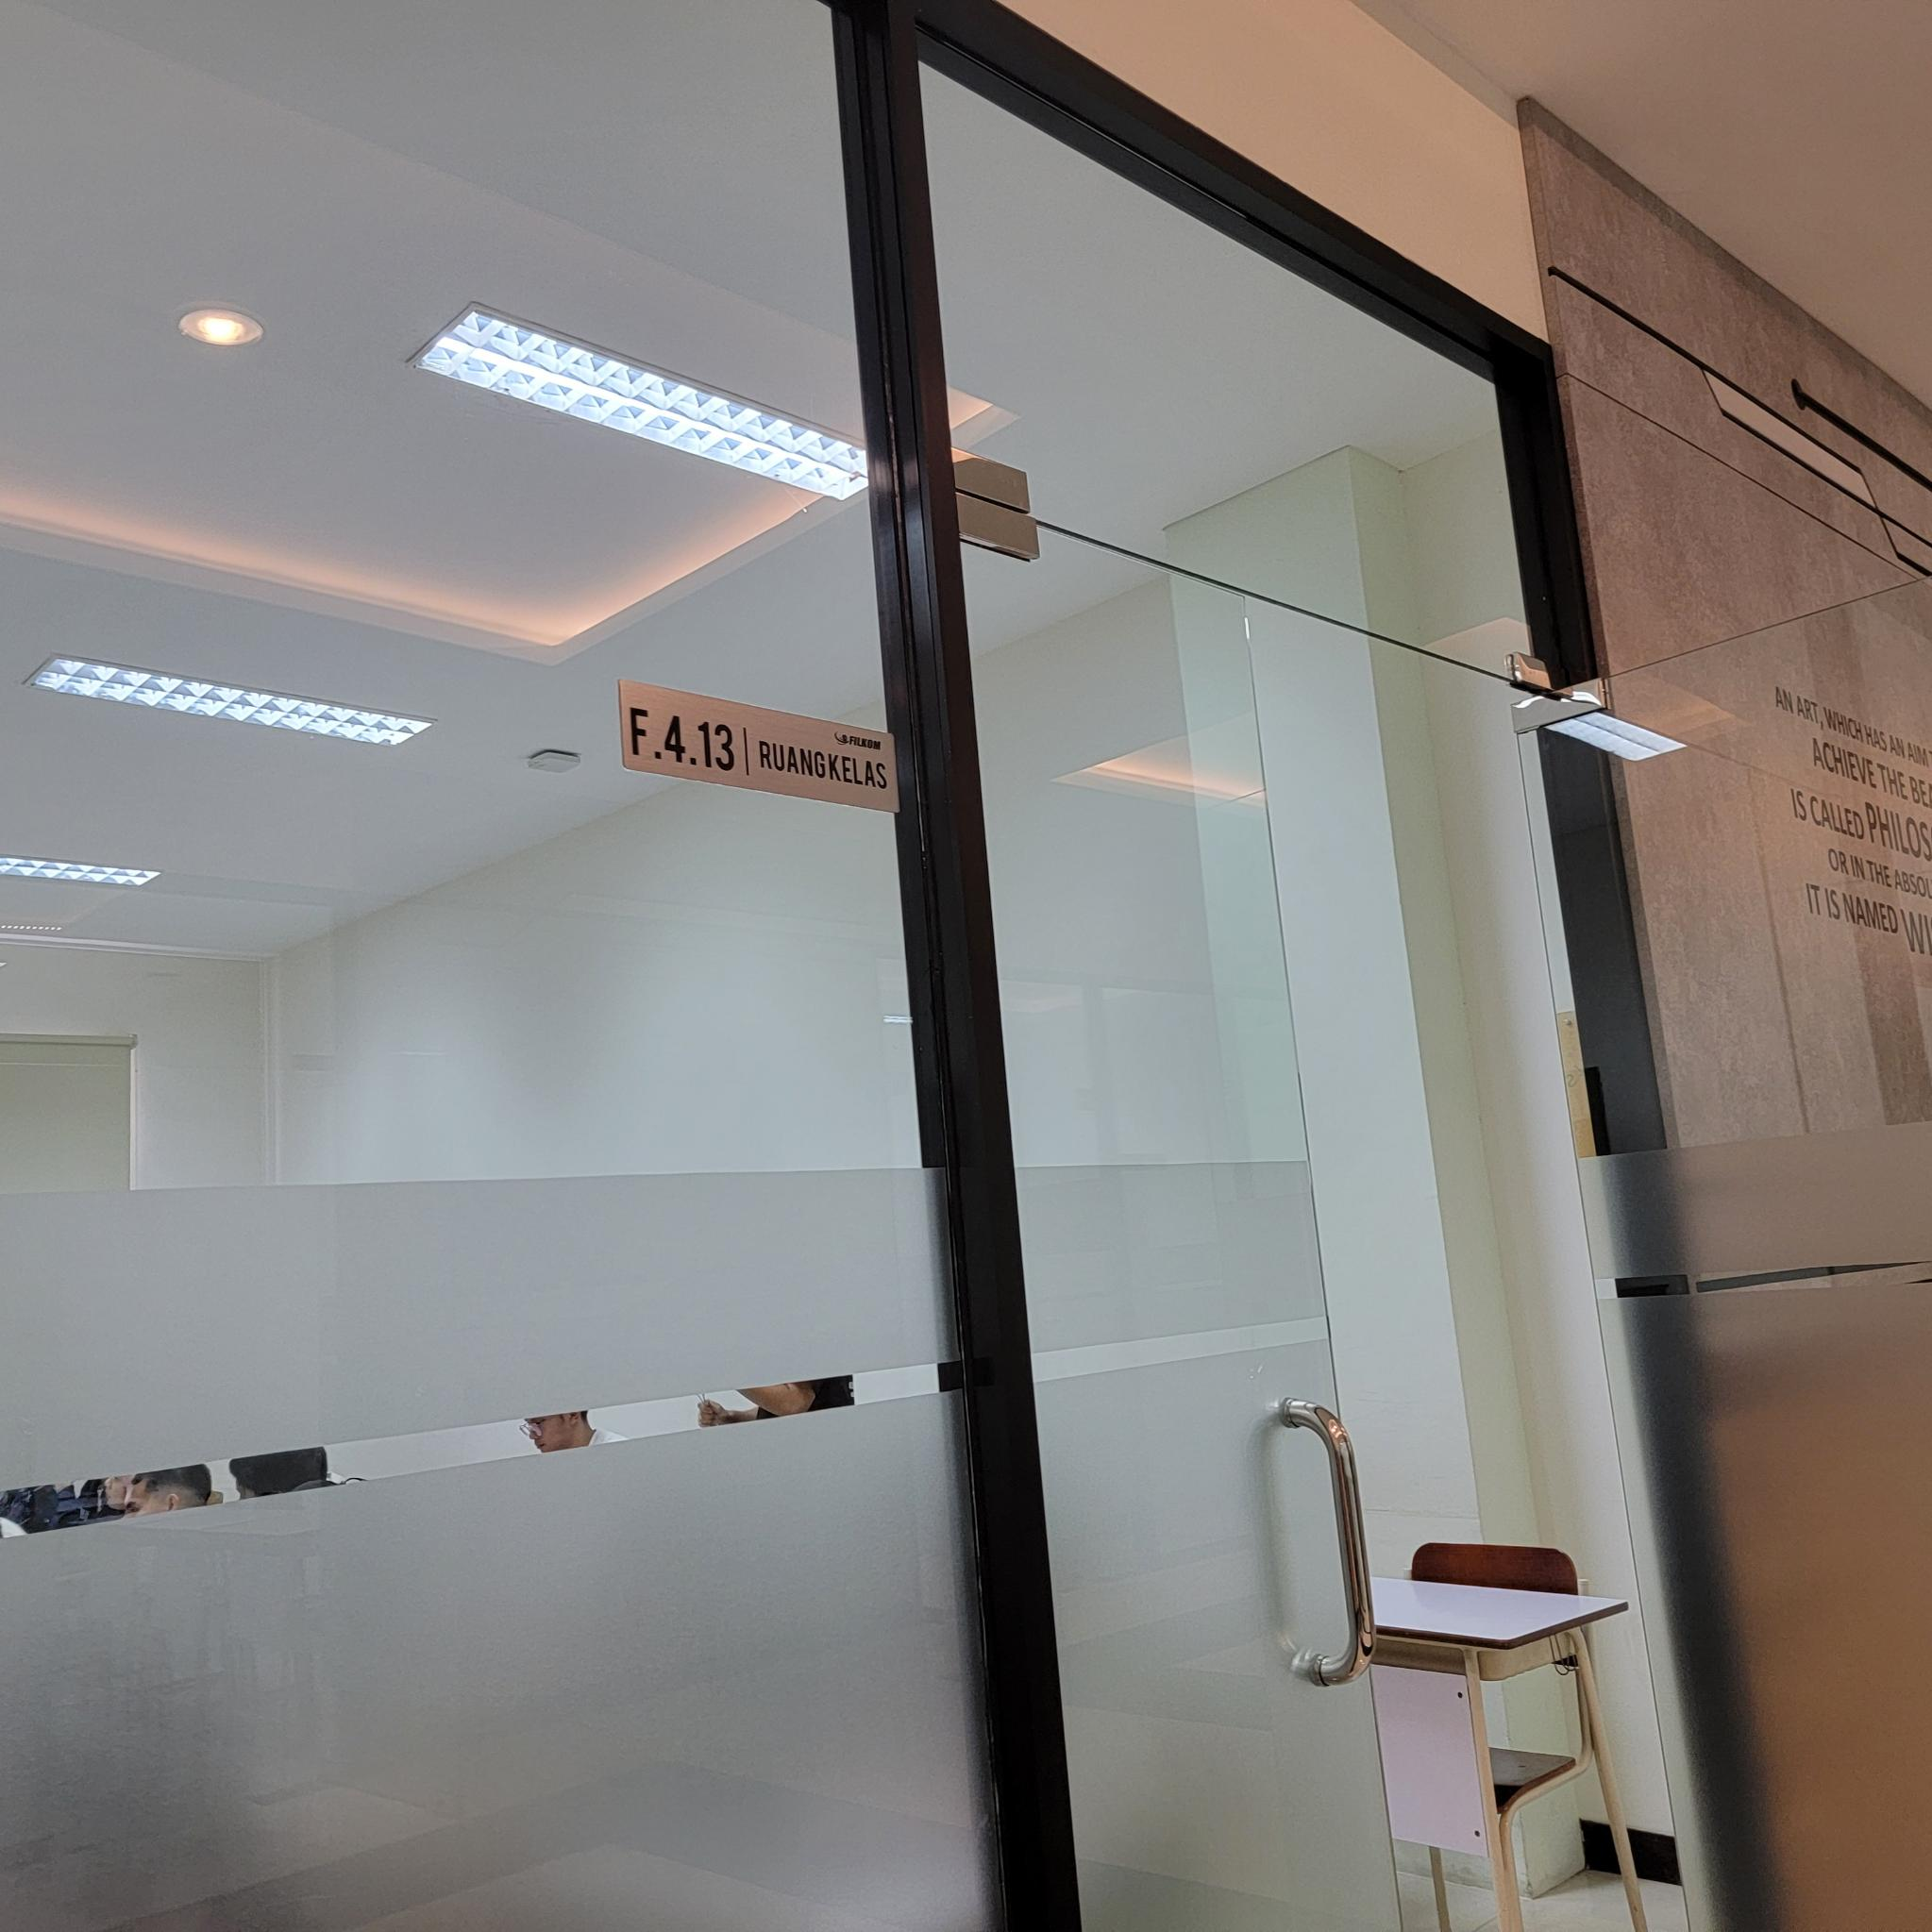plate: (619, 676, 904, 814)
